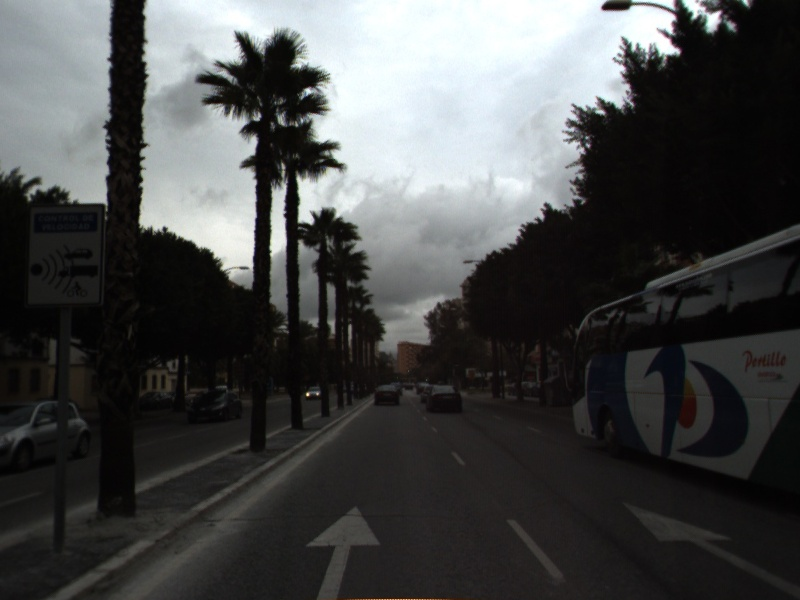STRAIGHT: (617, 498, 800, 600), (301, 502, 384, 600)
